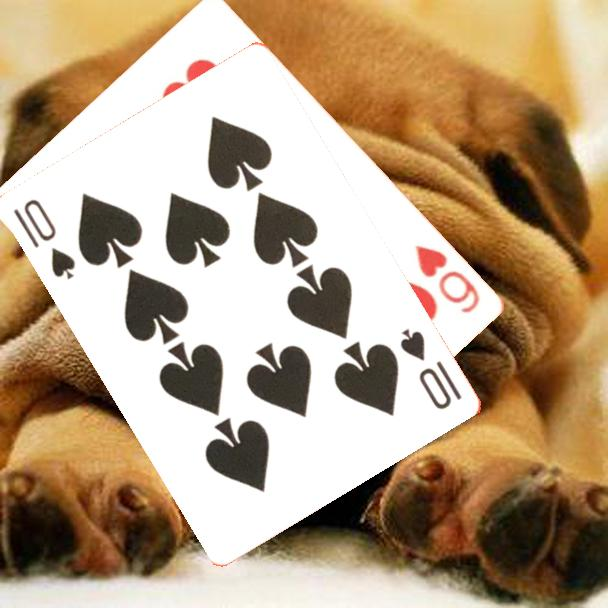h06: (412, 241, 484, 316)
s10: (397, 325, 466, 413), (10, 195, 79, 283)
